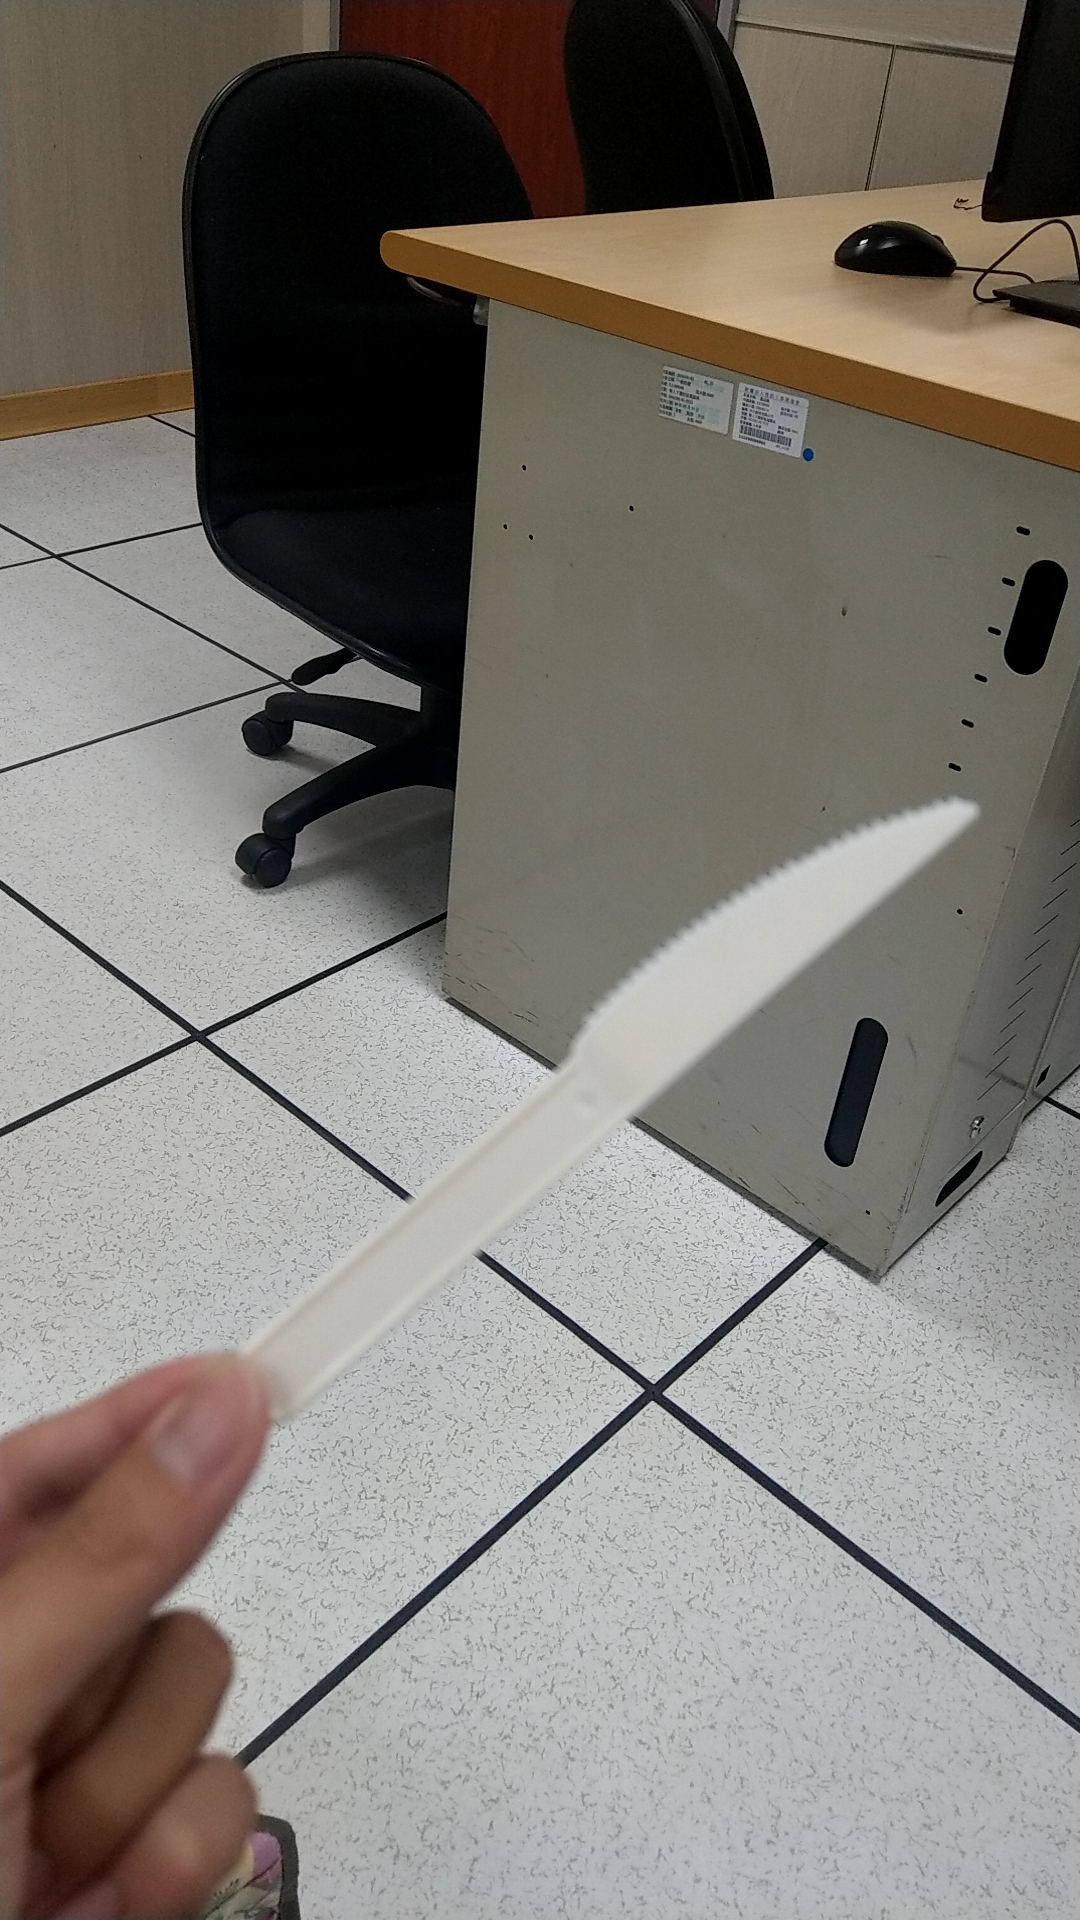knife: (280, 782, 978, 1396)
